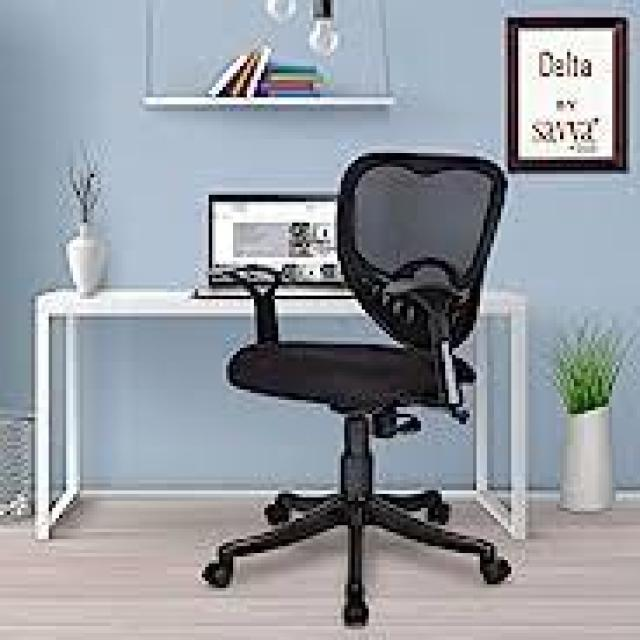chair: (161, 134, 571, 640)
